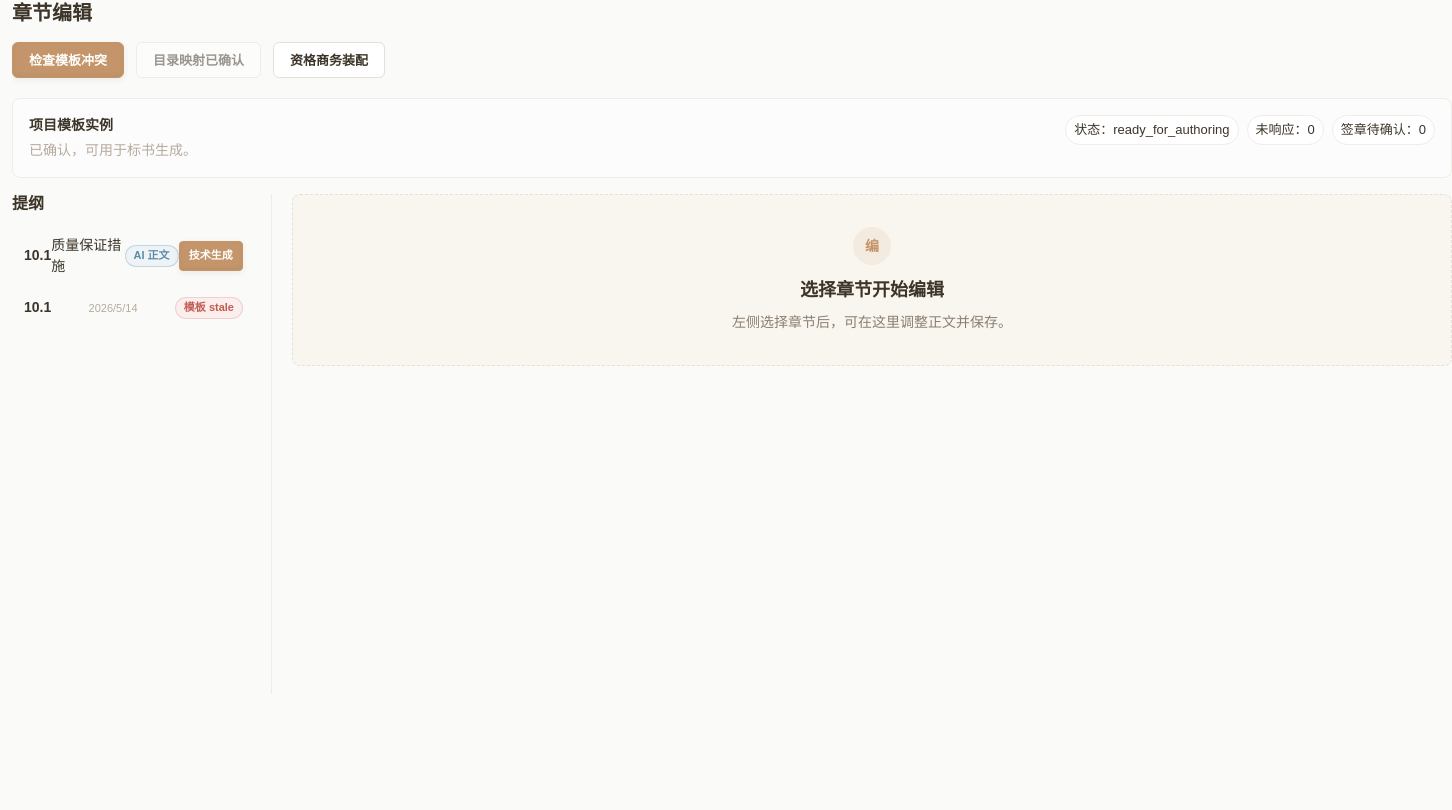
it: EditorContent chart workflow › shows template stale warnings for drafts and chart assets
Click the text "10.1" next to "2026/5/14": point(38, 308) [24,297,51,318]
(page scrolled)
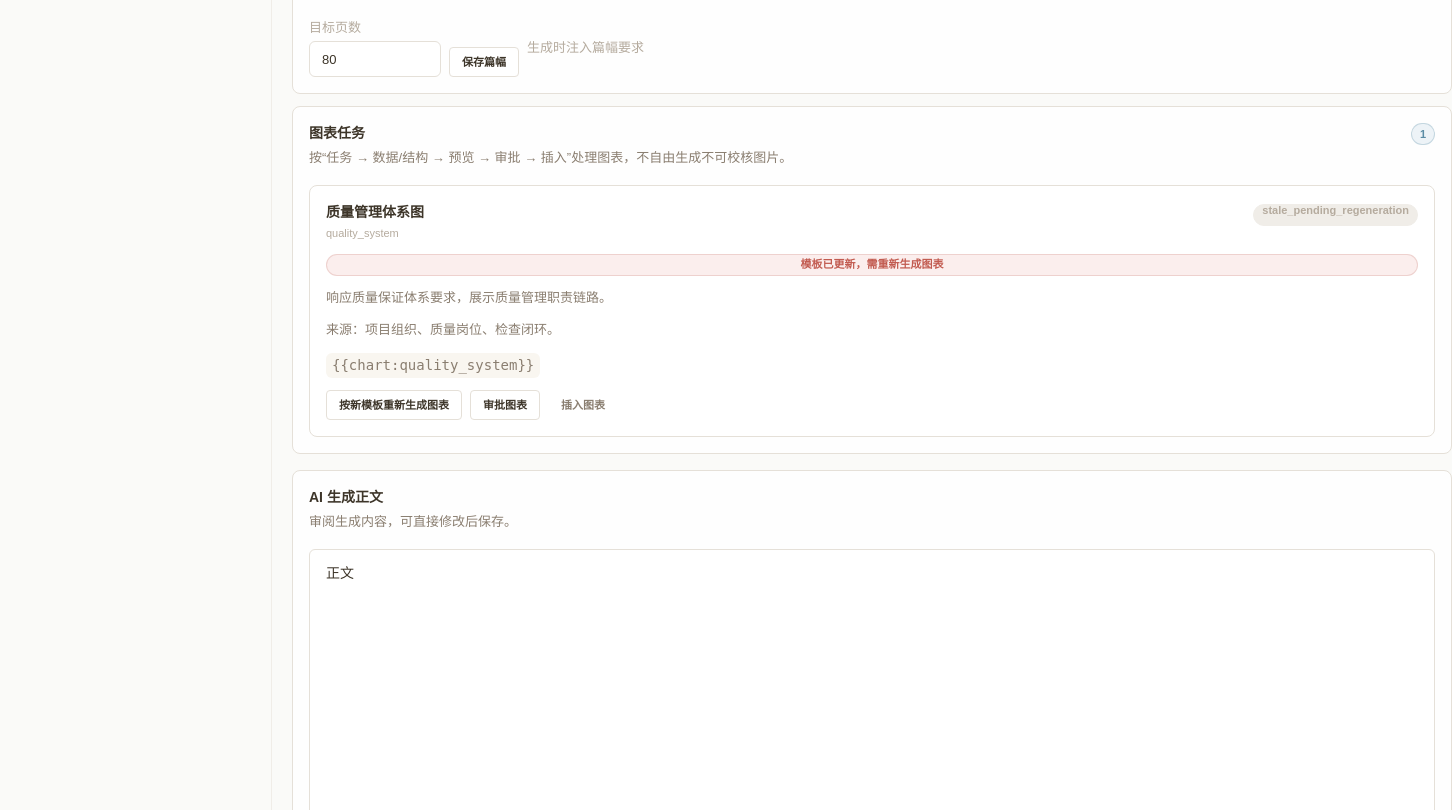
Now the text "模板已更新，需重新生成图表" is shown, box [326,254,1418,276]
Now the button "按新模板重新生成图表" is shown, box [326,390,462,420]
